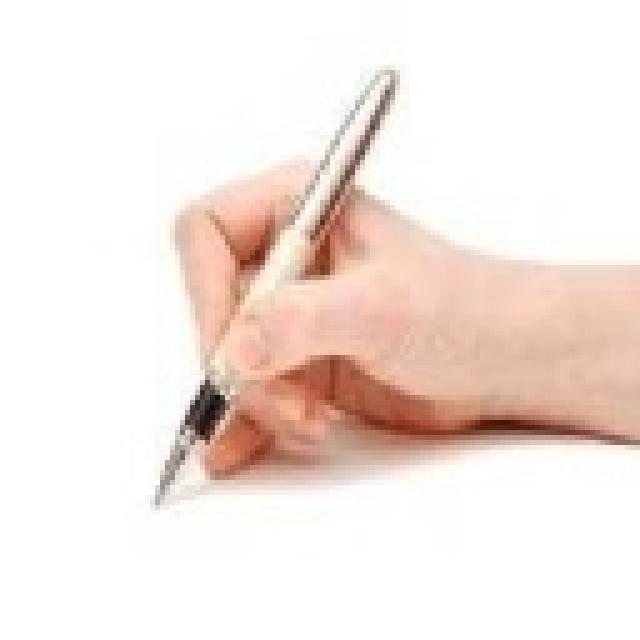pen: (140, 62, 404, 520)
